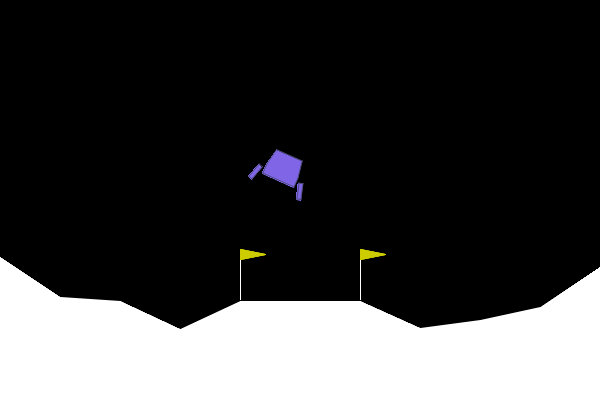lander: (246, 142, 317, 203)
